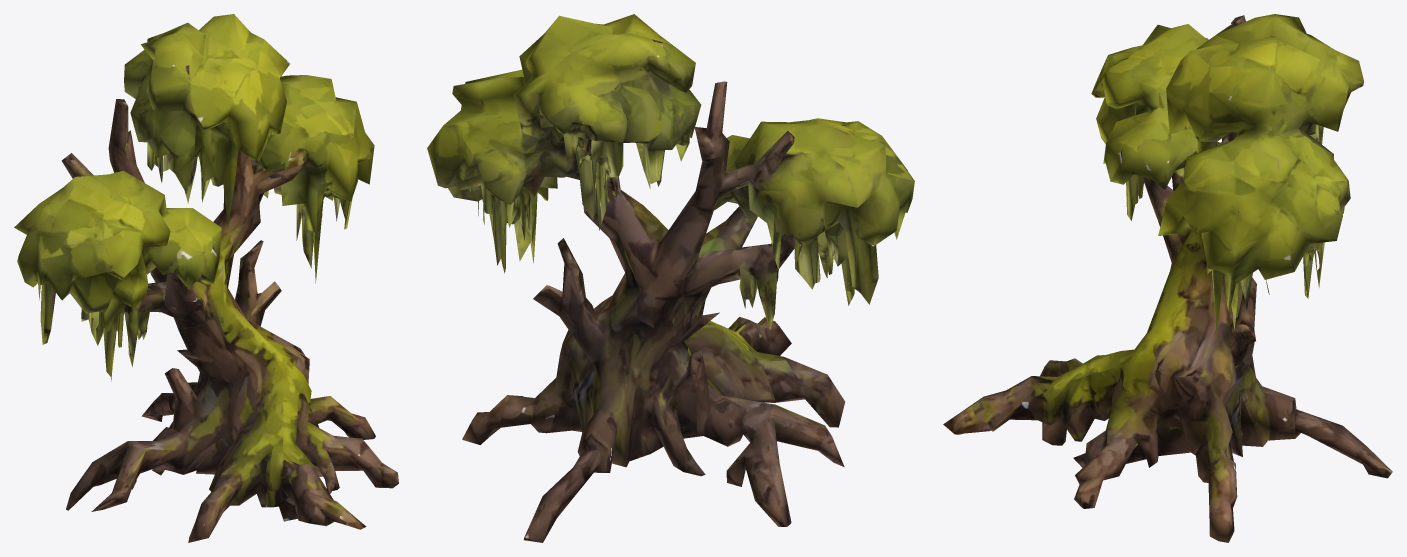
The model's file is tree_swamp_birch.glb.
3 renders of one model, left to right at view 1: azimuth 30°, elevation 25°; view 2: azimuth 150°, elevation 25°; view 3: azimuth 270°, elevation 25°, orthographic. The views are drawn at different scales.
Parts seen in each view (by area): view 1: BakeLow; view 2: BakeLow; view 3: BakeLow.
Boxes of the visible parts, left/top/right/bottom form: BakeLow: left=14, top=14, right=398, bottom=542; BakeLow: left=427, top=14, right=914, bottom=542; BakeLow: left=943, top=14, right=1392, bottom=542.
Size of the model in its own units: 0.7416 by 0.8164 by 0.7395.
1 material, 1 textured.
